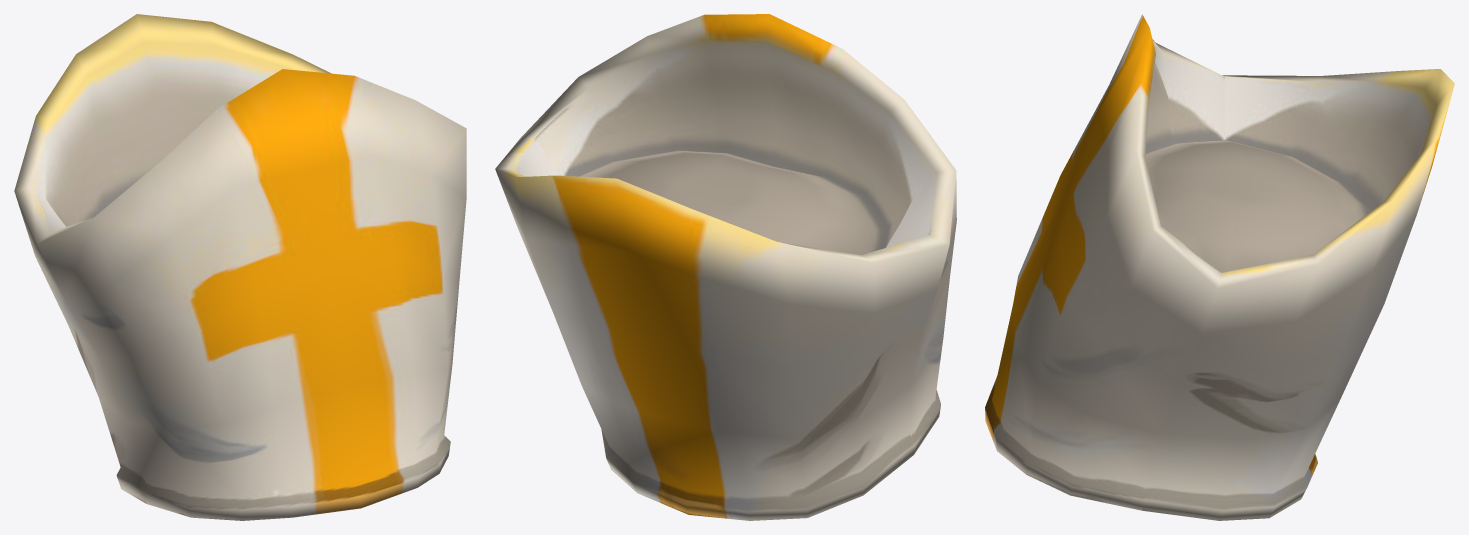
File: Clerigo-Hat.glb
3 renders of one model, left to right at view 1: azimuth 30°, elevation 25°; view 2: azimuth 150°, elevation 25°; view 3: azimuth 270°, elevation 25°, orthographic. The views are drawn at different scales.
Visible parts, largest first — view 1: Mesh_Cleric; view 2: Mesh_Cleric; view 3: Mesh_Cleric.
Part boxes in pixels (bbox=[...]): Mesh_Cleric: bbox=[14, 14, 466, 520]; Mesh_Cleric: bbox=[495, 14, 956, 520]; Mesh_Cleric: bbox=[985, 14, 1454, 520].
Size of the model in its own units: 0.5305 by 0.5199 by 0.4944.
1 material, 1 textured.
